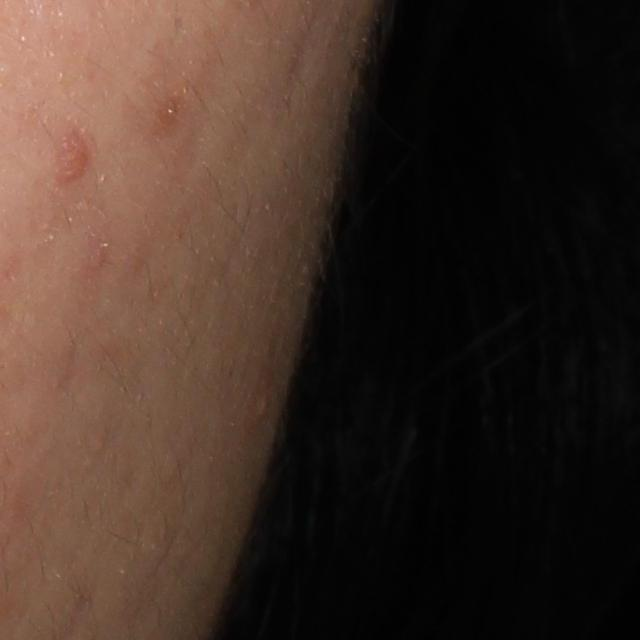papule: (54, 125, 98, 185)
